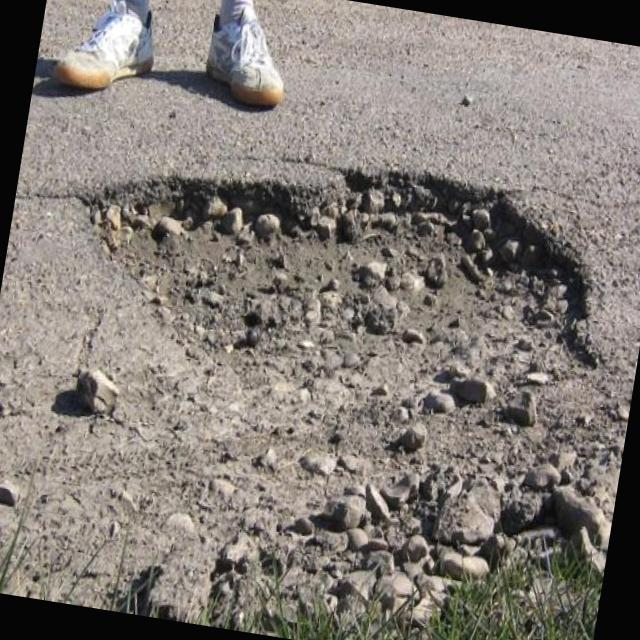pothole: (40, 110, 626, 472)
